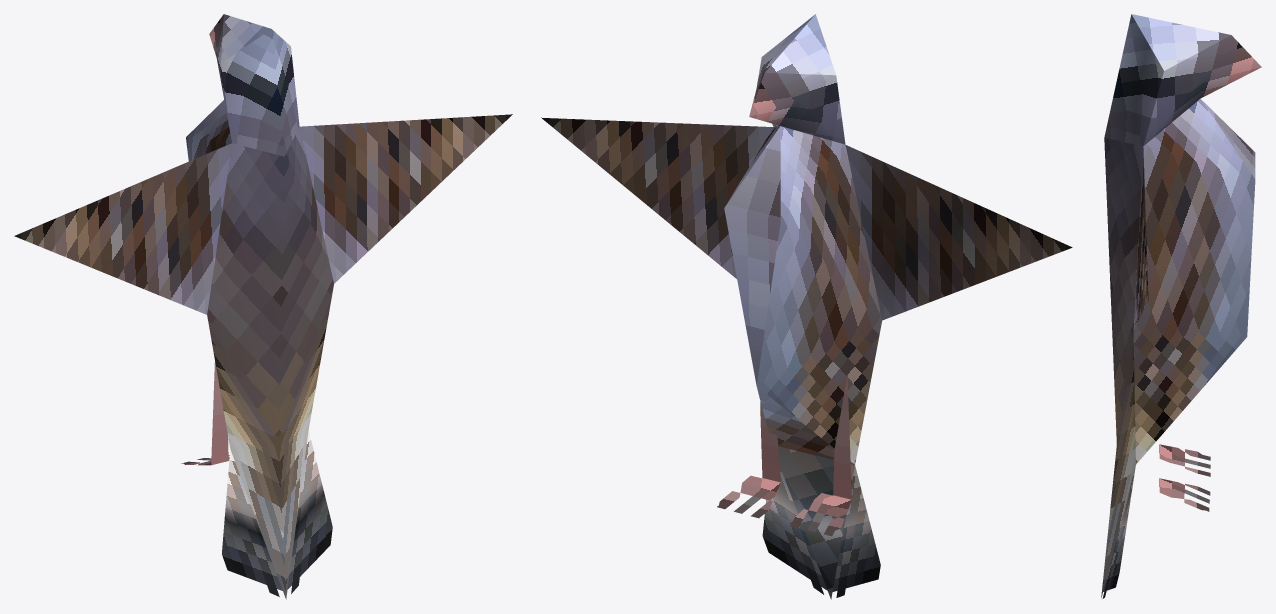
Rendered from Critter_Sparrow.FBX.
3 renders of one model, left to right at view 1: azimuth 30°, elevation 25°; view 2: azimuth 150°, elevation 25°; view 3: azimuth 270°, elevation 25°, orthographic. The views are drawn at different scales.
Parts seen in each view (by area): view 1: critter_sparrow; view 2: critter_sparrow; view 3: critter_sparrow.
Part boxes in pixels (box(x1,y1,x2,y2)): critter_sparrow: box(14, 14, 512, 599); critter_sparrow: box(541, 14, 1072, 599); critter_sparrow: box(1101, 14, 1261, 598).
Bounding box in the file's own units: 42.23 × 45.32 × 11.28.
